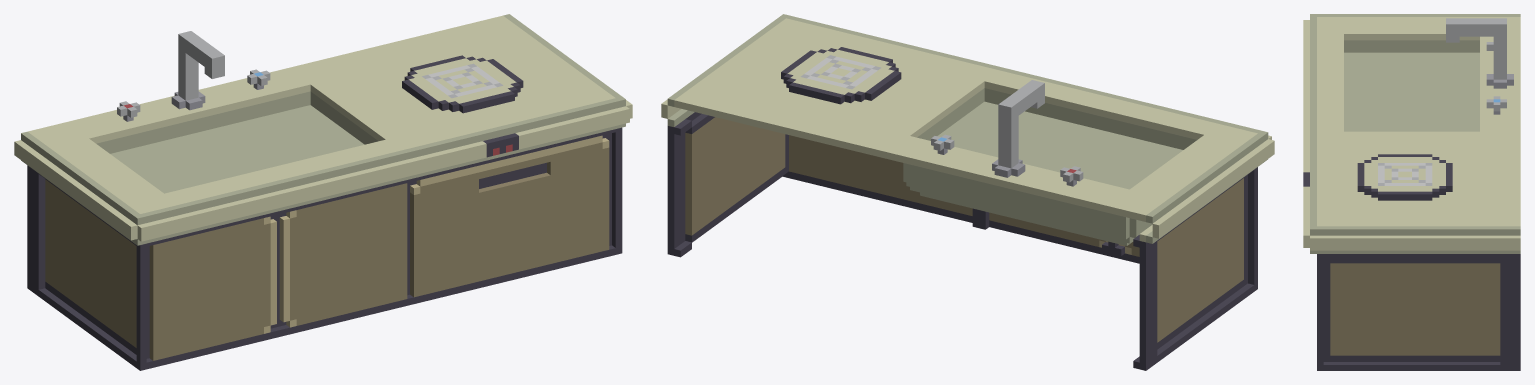
The model's file is Kitchen.fbx.
3 views of the same model, side by side, from view 1: azimuth 30°, elevation 25°; view 2: azimuth 150°, elevation 25°; view 3: azimuth 270°, elevation 25° (orthographic). The views are drawn at different scales.
Visible parts, largest first — view 1: Kitchen; view 2: Kitchen; view 3: Kitchen.
Part boxes in pixels (left/top/right/bottom): Kitchen: left=14, top=14, right=632, bottom=370; Kitchen: left=661, top=14, right=1274, bottom=370; Kitchen: left=1303, top=14, right=1520, bottom=370.
Size of the model in its own units: 481 by 206 by 200.
